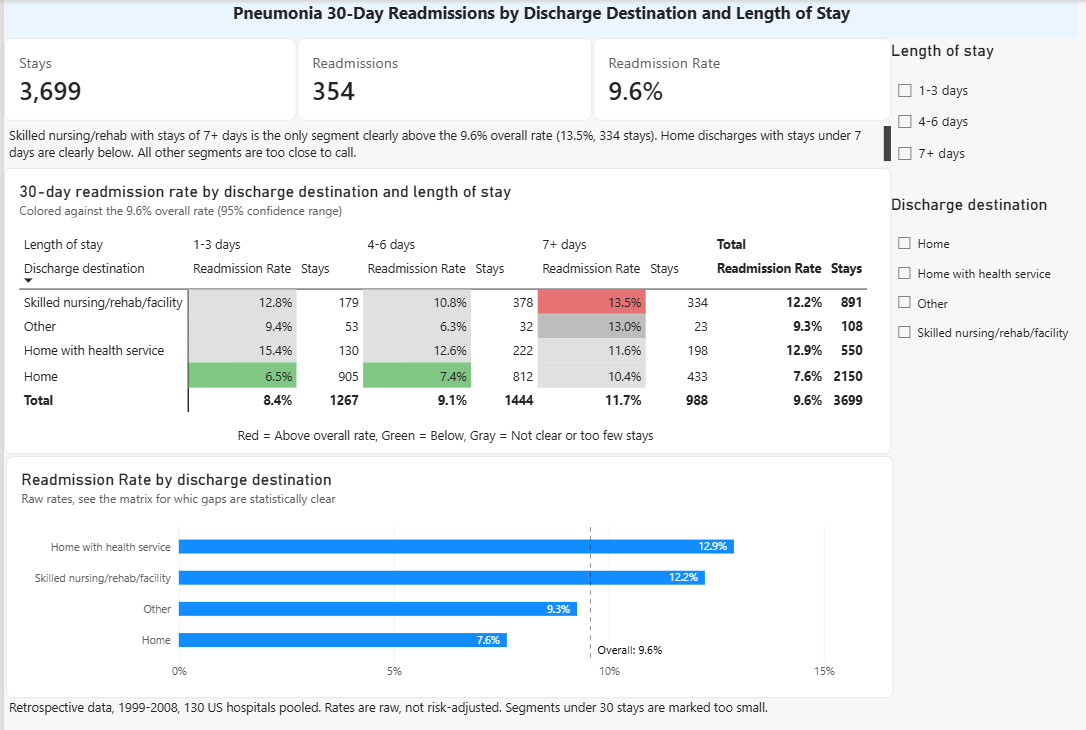

The page's visual inventory and layout, read from the dashboard file:
{"tool":"powerbi","page":{"name":"Page 1","canvas":[1920,1080],"ordinal":0},"visuals":[{"type":"cardVisual","fields":{"Data":["pneumonia_clean.Stays"]},"box":[0,42.2,325.6,92.2],"z":0},{"type":"cardVisual","fields":{"Data":["pneumonia_clean.Readmissions"]},"box":[325.6,42.2,328.9,92.2],"z":1000},{"type":"cardVisual","fields":{"Data":["pneumonia_clean.Readmission Rate"]},"box":[654.4,42.2,331.1,92.2],"z":2000},{"type":"pivotTable","title":"30-day readmission rate by discharge destination and length of stay","fields":{"Columns":["pneumonia_clean.los_band"],"Rows":["pneumonia_clean.destination_group"],"Values":["pneumonia_clean.Readmission Rate","pneumonia_clean.Stays"]},"box":[0,186.7,985.6,316.7],"z":3000},{"type":"clusteredBarChart","title":"Readmission Rate by discharge destination","fields":{"Category":["pneumonia_clean.destination_group"],"Y":["pneumonia_clean.Readmission Rate"]},"box":[2.2,505.6,985.6,268.9],"z":4000},{"type":"slicer","title":"Length of stay","fields":{"Values":["pneumonia_clean.los_band"]},"box":[985.6,45.6,207.8,173.3],"z":5000},{"type":"slicer","title":"Discharge destination","fields":{"Values":["pneumonia_clean.destination_group"]},"box":[985.6,216.7,207.8,203.3],"z":6000},{"type":"textbox","box":[1.1,1.1,1192.2,41.1],"z":7000},{"type":"textbox","box":[11.1,472,958.9,27.8],"z":7001},{"type":"textbox","box":[5.6,140,980,46.7],"z":7002},{"type":"textbox","box":[5.6,774,980,24.4],"z":7004}]}

Visuals, with their boxes on the page's 1920x1080 design canvas (x1, y1, x2, y2). These are canvas units, not pixel positions in the 1086x730 screenshot, which may show the page scaled, cropped or inside an application window:
cardVisual - pneumonia_clean.Stays: pyautogui.locateOnScreen(0, 42, 326, 134)
cardVisual - pneumonia_clean.Readmissions: pyautogui.locateOnScreen(326, 42, 654, 134)
cardVisual - pneumonia_clean.Readmission Rate: pyautogui.locateOnScreen(654, 42, 986, 134)
"30-day readmission rate by discharge destination and length of stay" pivotTable: pyautogui.locateOnScreen(0, 187, 986, 503)
"Readmission Rate by discharge destination" clusteredBarChart: pyautogui.locateOnScreen(2, 506, 988, 774)
"Length of stay" slicer: pyautogui.locateOnScreen(986, 46, 1193, 219)
"Discharge destination" slicer: pyautogui.locateOnScreen(986, 217, 1193, 420)
textbox: pyautogui.locateOnScreen(1, 1, 1193, 42)
textbox: pyautogui.locateOnScreen(11, 472, 970, 500)
textbox: pyautogui.locateOnScreen(6, 140, 986, 187)
textbox: pyautogui.locateOnScreen(6, 774, 986, 798)
